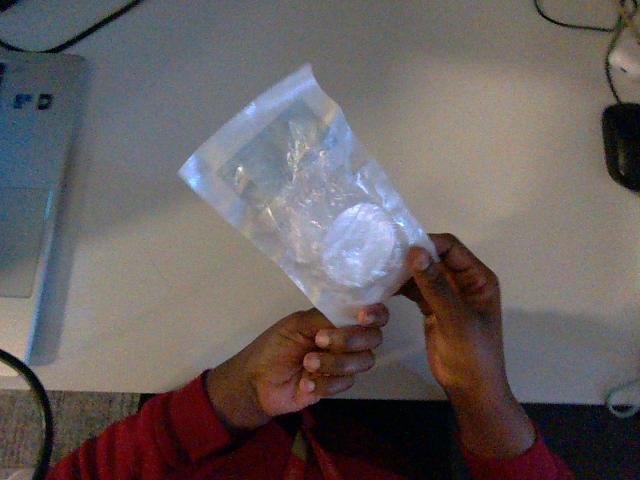gallipot: (179, 65, 436, 325)
